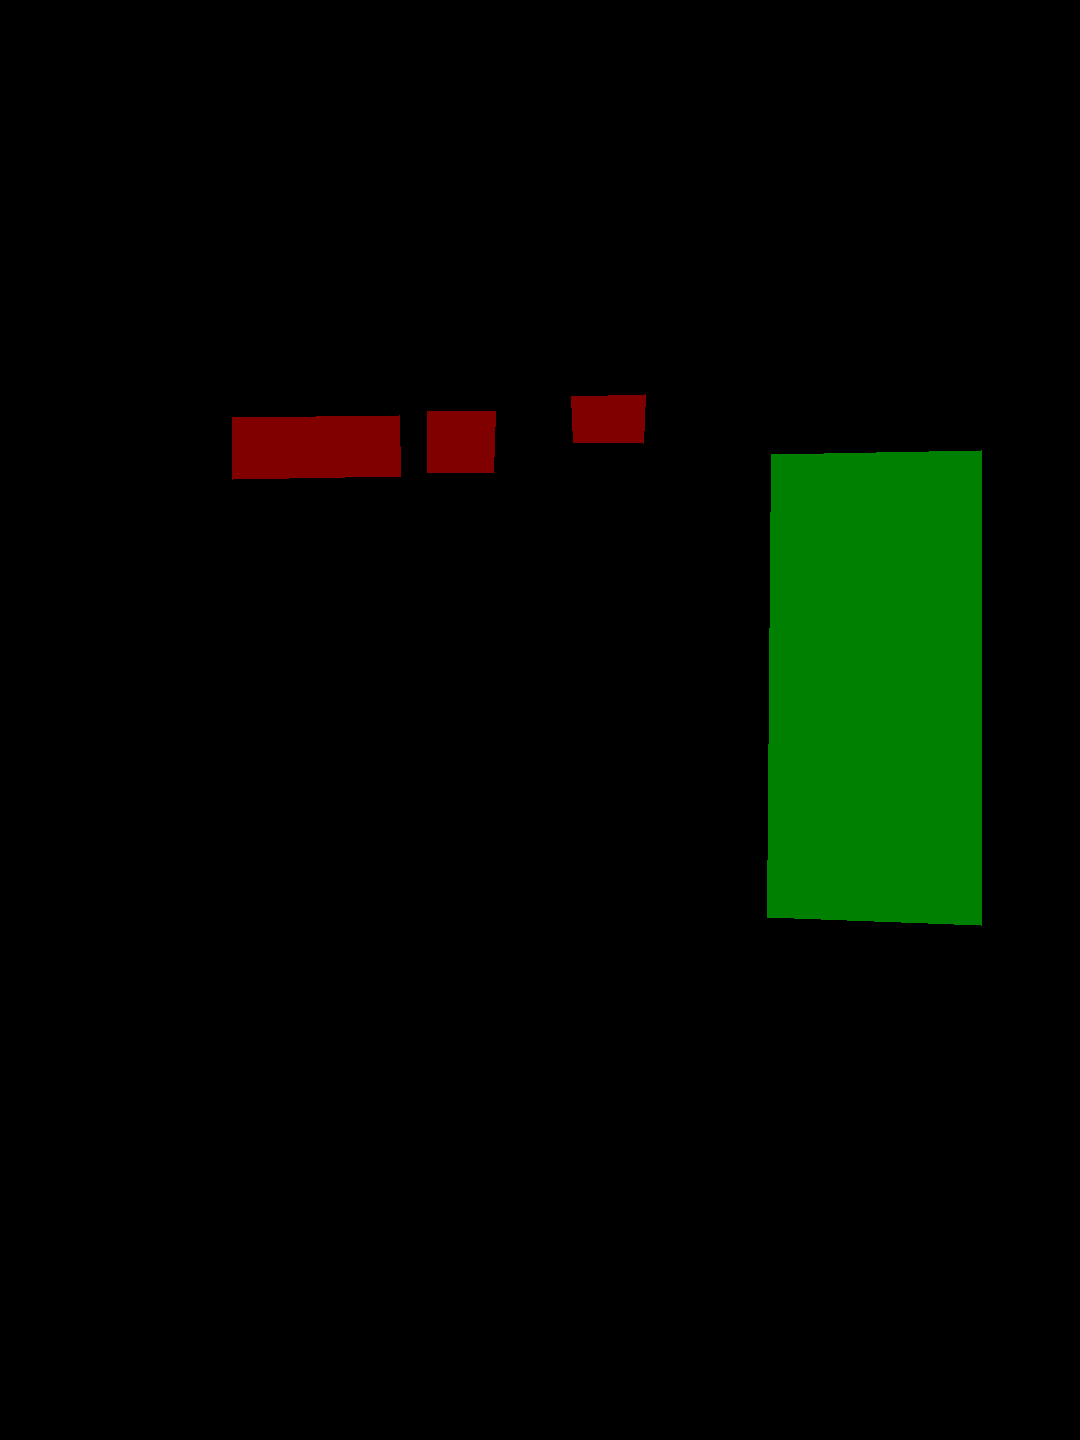door: (767, 450, 981, 925)
sign: (810, 515, 937, 669), (233, 415, 400, 478), (427, 410, 495, 472), (571, 393, 646, 443)
